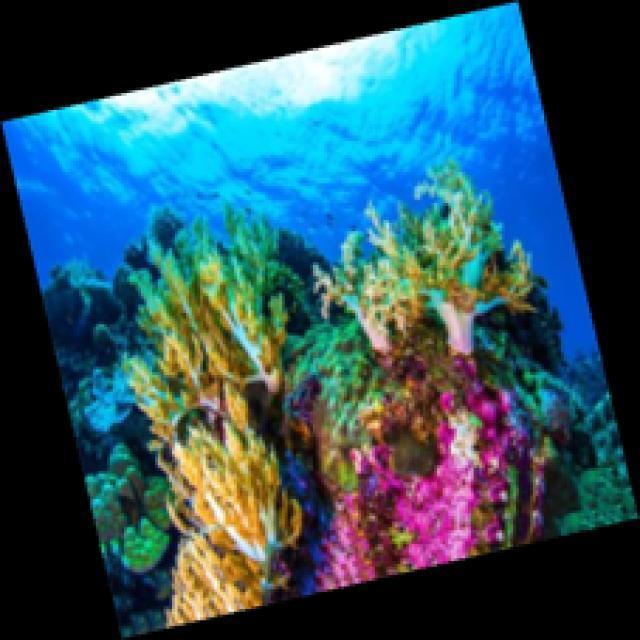Healthy: (134, 200, 305, 626), (317, 357, 548, 597), (316, 156, 536, 353)
